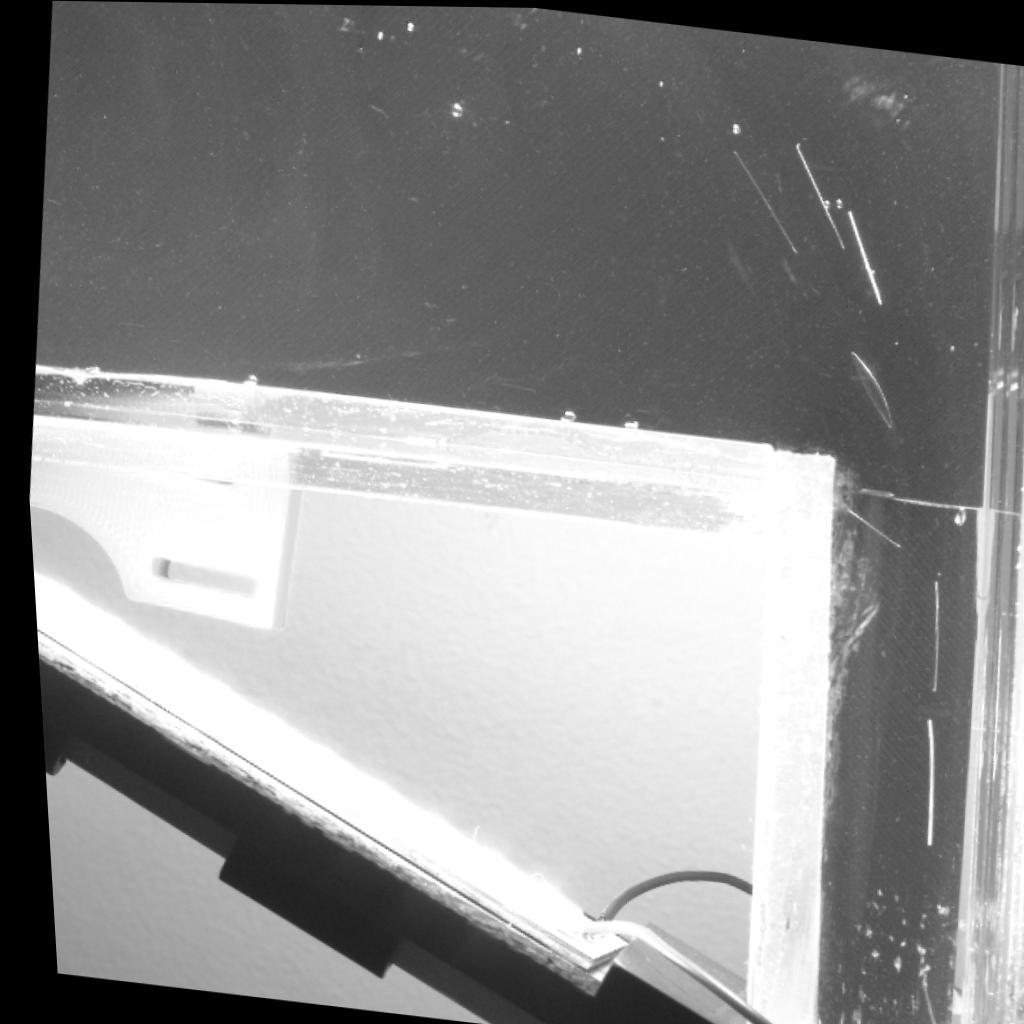Fiber: (728, 145, 799, 255), (790, 139, 844, 249), (837, 208, 881, 303)
